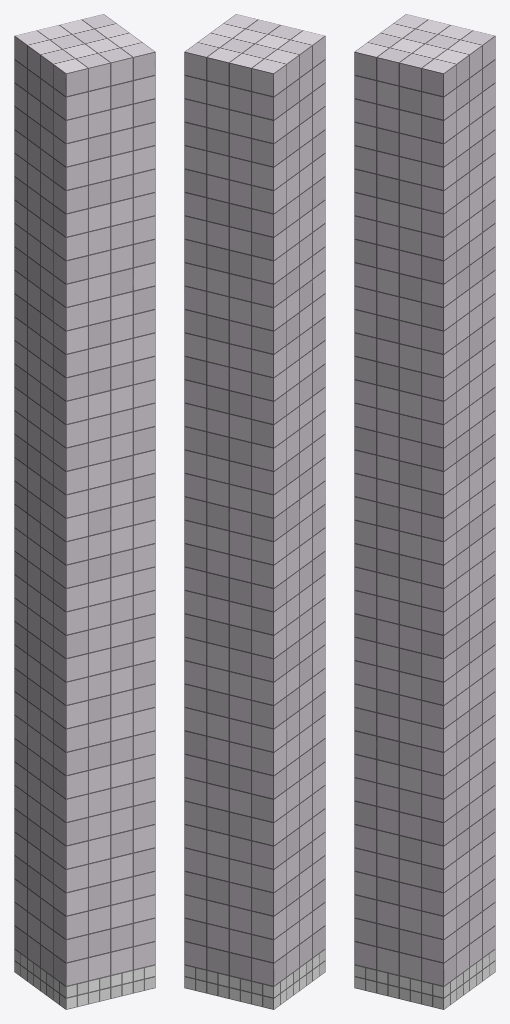
File: white_column.glb
3 views of the same model, side by side, from view 1: azimuth 30°, elevation 25°; view 2: azimuth 150°, elevation 25°; view 3: azimuth 330°, elevation 25° (orthographic).
Parts seen in each view (by area): view 1: white_column; view 2: white_column; view 3: white_column.
Part boxes in pixels (x1,y1,x2,y2): white_column: (14, 14, 155, 1009); white_column: (184, 14, 325, 1009); white_column: (354, 14, 495, 1009).
Size of the model in its own units: 0.4 by 4 by 0.4.
2 materials, 2 textured.
